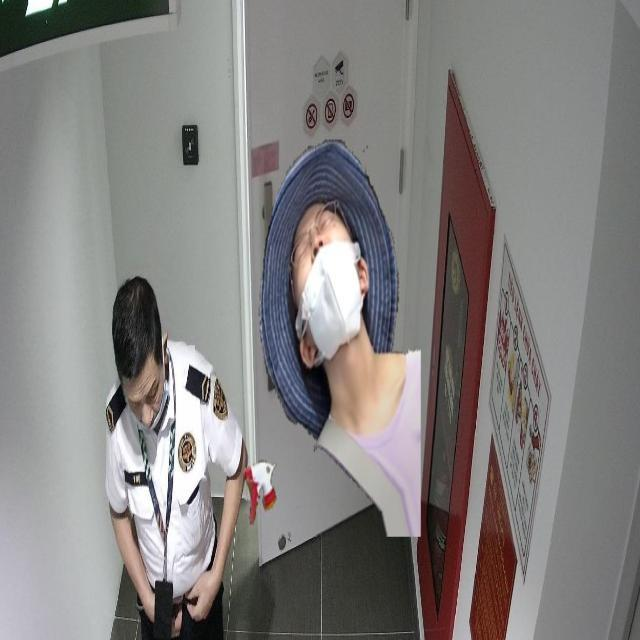hairnet: (294, 206, 361, 357), (123, 373, 170, 429)
